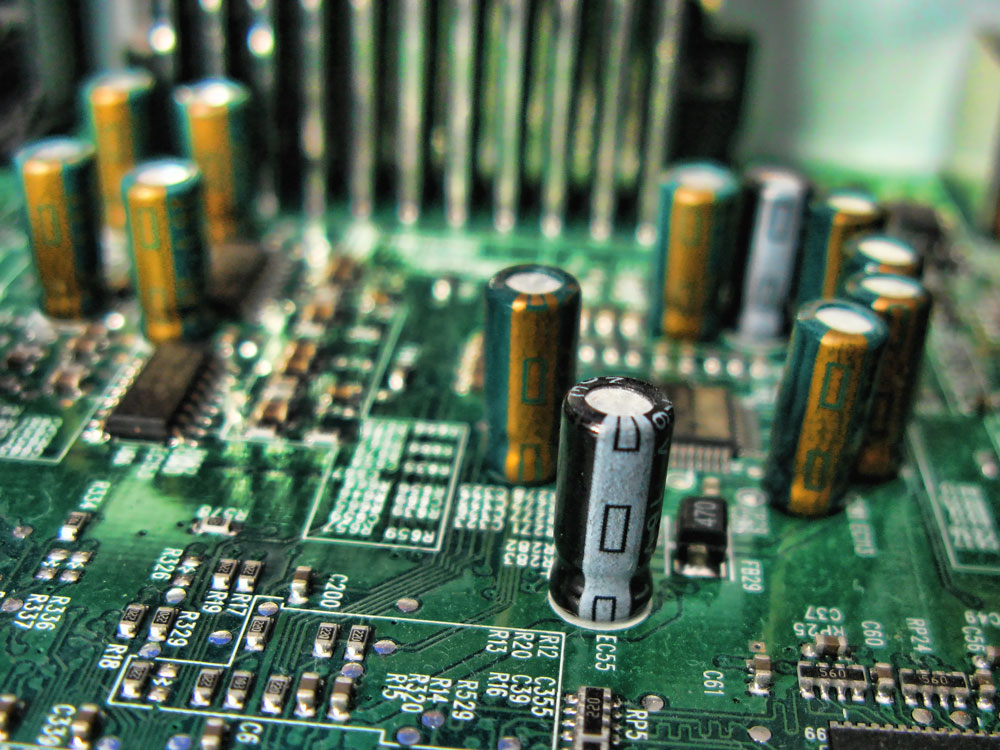capacitor: (549, 373, 680, 646), (462, 246, 579, 488), (843, 255, 950, 506), (768, 289, 874, 533), (110, 146, 225, 361), (165, 71, 286, 229), (653, 140, 737, 356), (20, 122, 104, 334), (74, 60, 173, 192)
